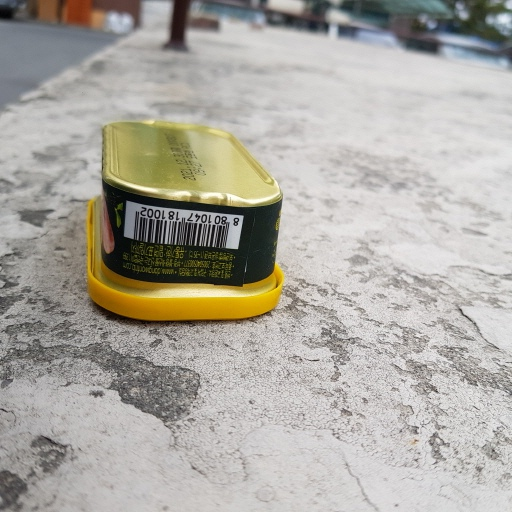Metal_2: (82, 114, 292, 324)
